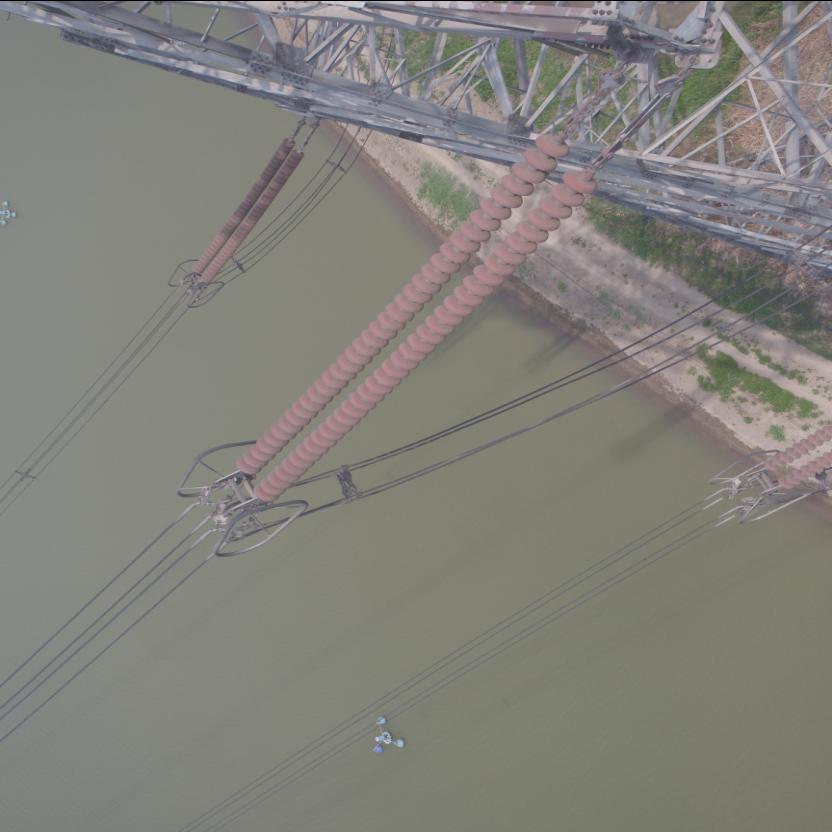insulator: (229, 103, 624, 515), (184, 127, 310, 285)
